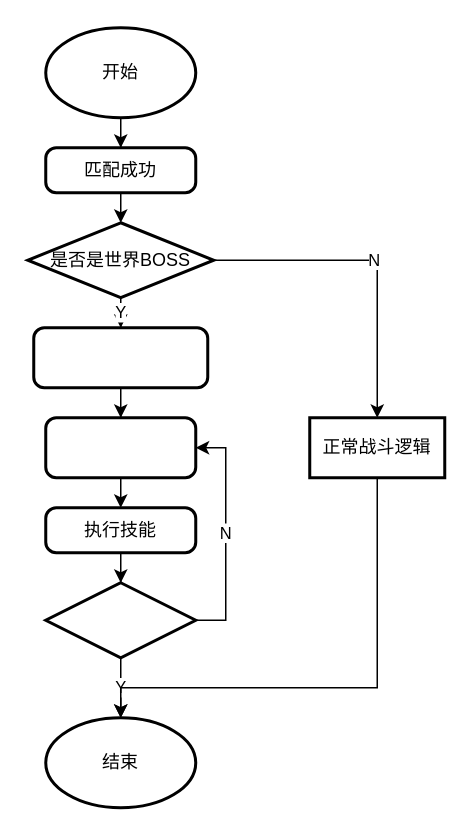
Some shapes in this 471 by 834 pixel diagram are drawn without their labels. The shapes that lost their labels are listed below. From the top down, each one's centre as x and y in pixels, then its label:
At point (120, 357): "开启世界BOSS协程".
At point (120, 447): "获取技能配置，开始技能倒计时".
At point (120, 619): "游戏是否结束".
